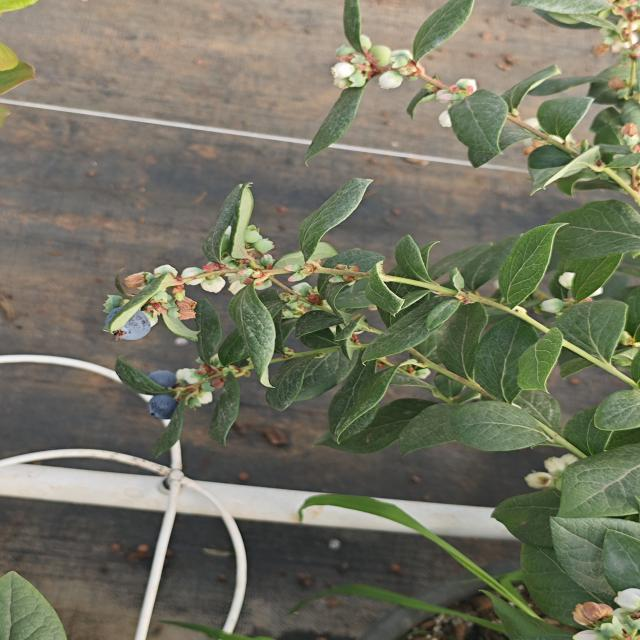ripe: (143, 368, 182, 422), (110, 308, 154, 344)
